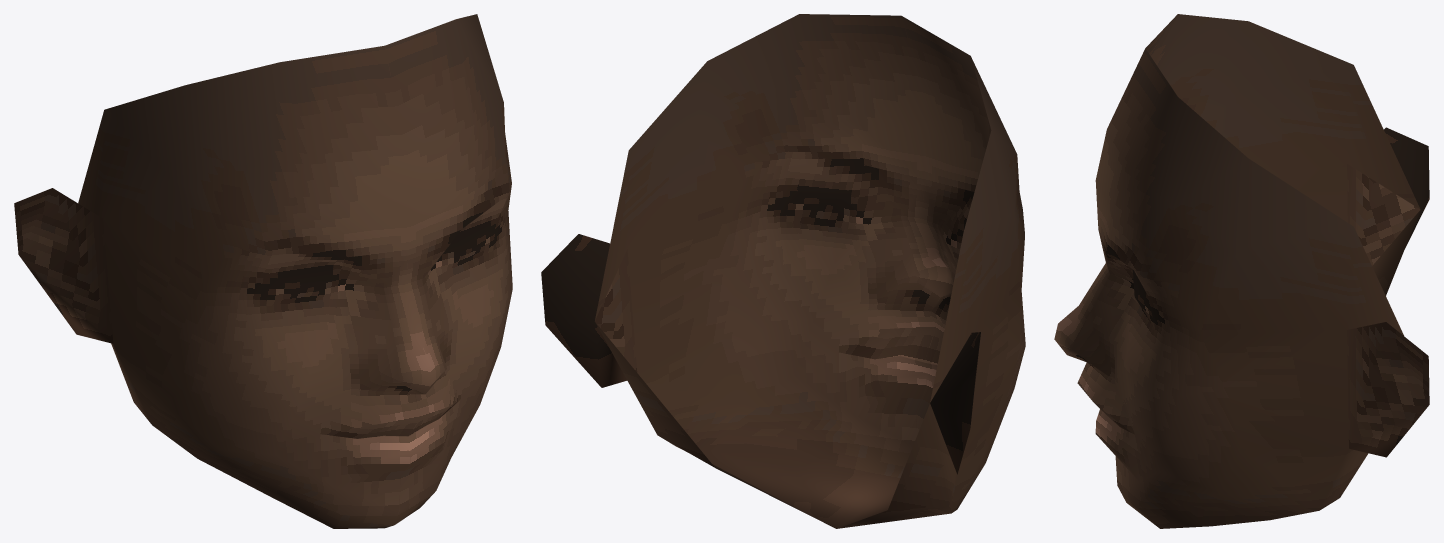
3 views of the same model, side by side, from view 1: azimuth 30°, elevation 25°; view 2: azimuth 150°, elevation 25°; view 3: azimuth 270°, elevation 25° (orthographic). The views are drawn at different scales.
Size of the model in its own units: 19.54 by 20.18 by 14.77.
1 material, 1 textured.
